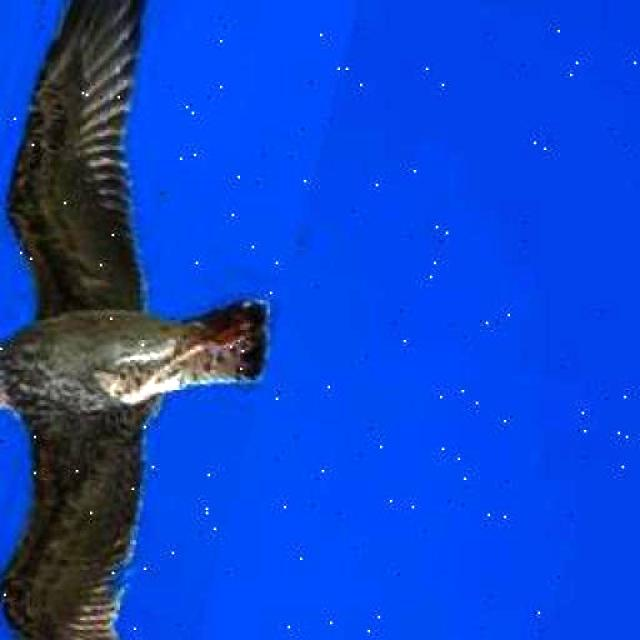airplane: (0, 0, 379, 640)
